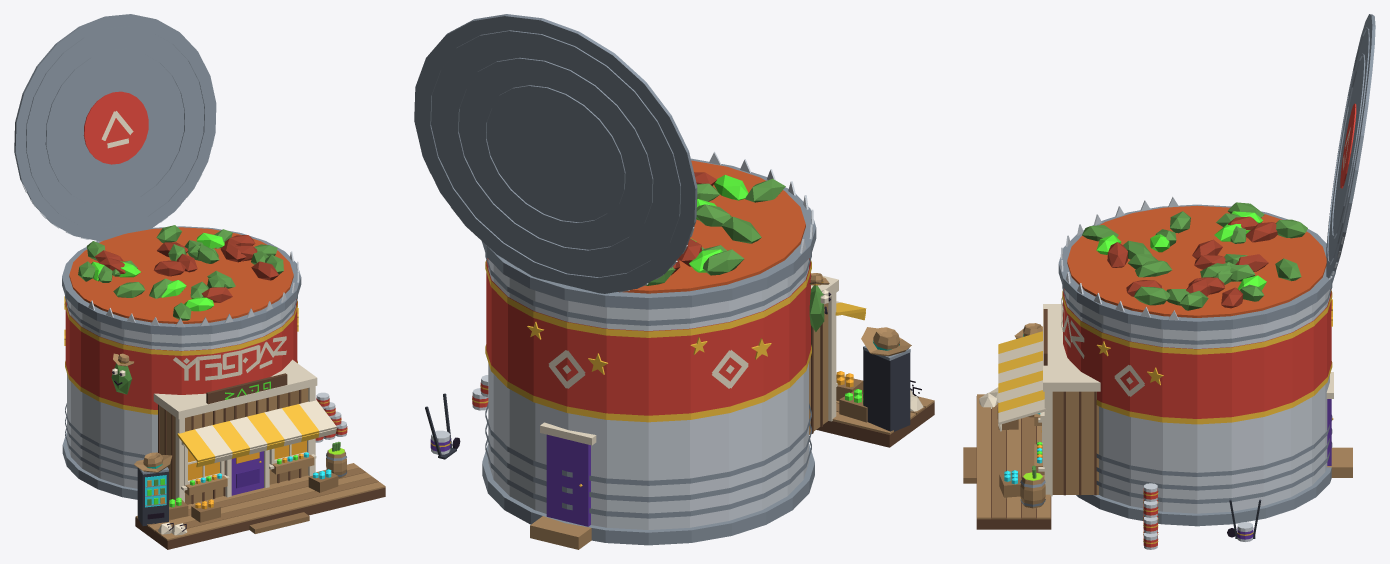
Rendered from Bldg_GeneralStore.obj.
3 views of the same model, side by side, from view 1: azimuth 30°, elevation 25°; view 2: azimuth 150°, elevation 25°; view 3: azimuth 270°, elevation 25° (orthographic). The views are drawn at different scales.
Visible parts, largest first — view 1: Bldg_GeneralStore_Body, Bldg_GeneralStore_Lid, Bldg_GeneralStore_Door; view 2: Bldg_GeneralStore_Body, Bldg_GeneralStore_Lid; view 3: Bldg_GeneralStore_Body, Bldg_GeneralStore_Lid.
Boxes of the visible parts, x1,y1,x2,y2 form: Bldg_GeneralStore_Body: [62, 225, 385, 549]; Bldg_GeneralStore_Lid: [14, 14, 216, 241]; Bldg_GeneralStore_Door: [231, 451, 263, 495]; Bldg_GeneralStore_Body: [425, 151, 934, 549]; Bldg_GeneralStore_Lid: [414, 14, 697, 293]; Bldg_GeneralStore_Body: [963, 197, 1352, 549]; Bldg_GeneralStore_Lid: [1326, 14, 1375, 279].
Size of the model in its own units: 10.53 by 14.71 by 12.43.
